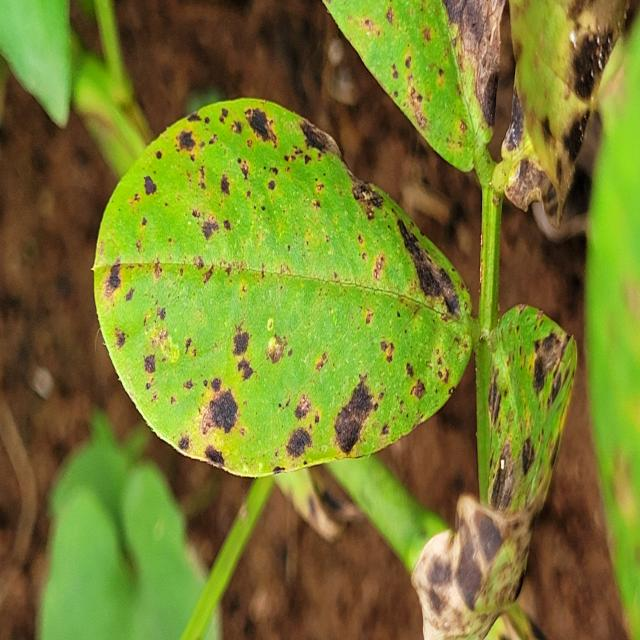Ground nut_tikka leaf spot: (94, 93, 478, 474)
